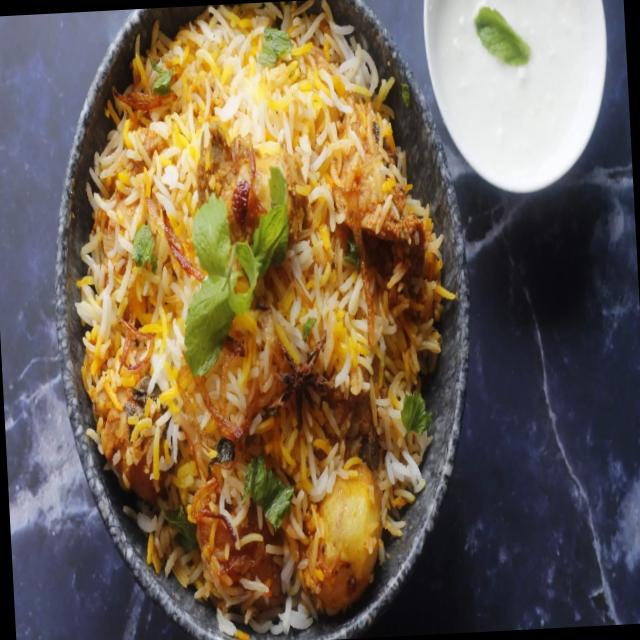Biryani: (58, 0, 476, 640)
